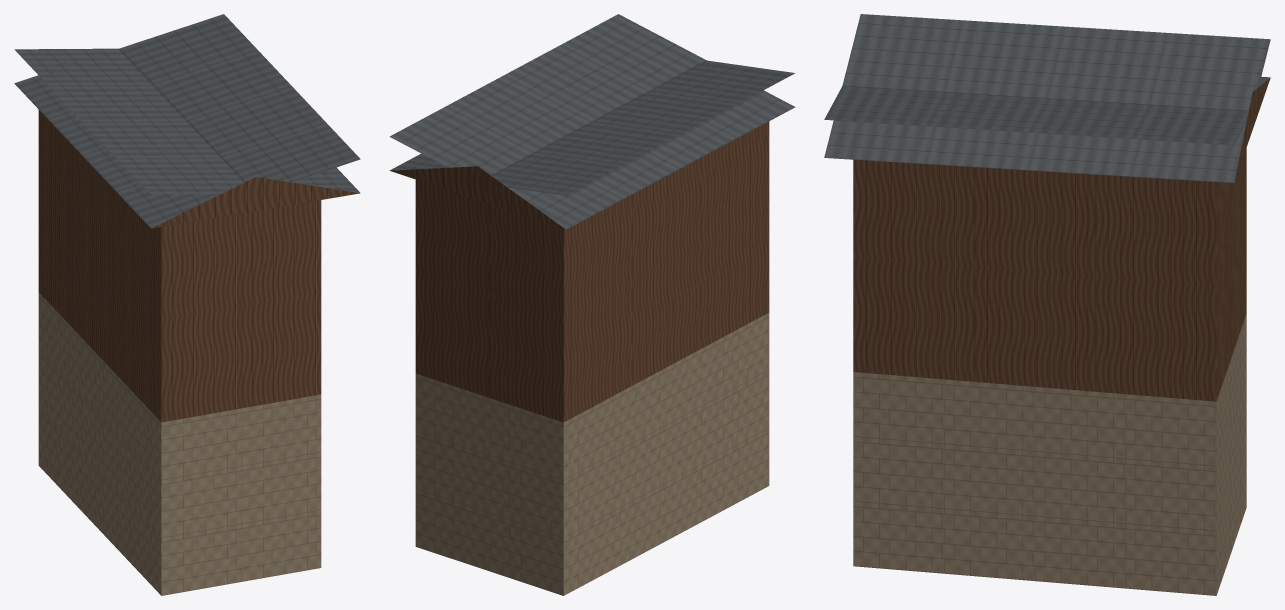
Rendered from bld_c-34_-13_639.gltf.
The picture shows the model from 3 angles, left to right: view 1: azimuth 30°, elevation 25°; view 2: azimuth 150°, elevation 25°; view 3: azimuth 270°, elevation 25°; orthographic projection. The views are drawn at different scales.
Visible parts, largest first — view 1: bld_c-34_-13_639; view 2: bld_c-34_-13_639; view 3: bld_c-34_-13_639.
Part boxes in pixels (left/top/right/bottom): bld_c-34_-13_639: left=14, top=14, right=360, bottom=595; bld_c-34_-13_639: left=389, top=14, right=795, bottom=595; bld_c-34_-13_639: left=824, top=14, right=1270, bottom=595.
Bounding box in the file's own units: 7.38 × 12.1 × 10.63.
4 materials, 4 textured.
